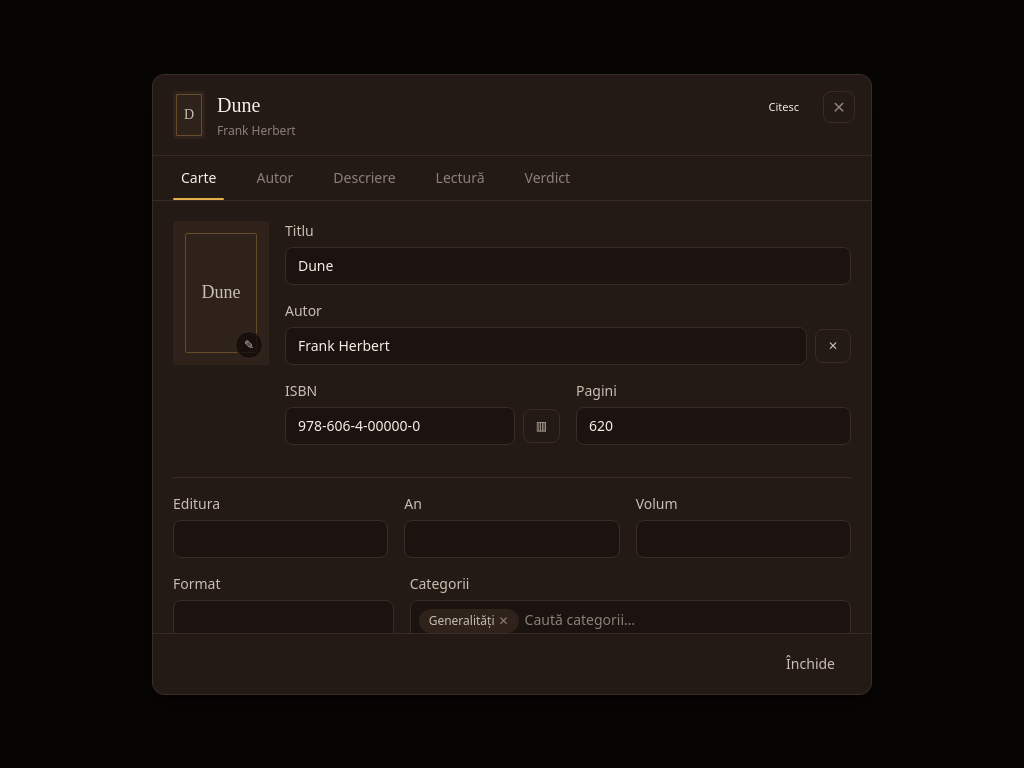
BookFormDialog — leaving with unsaved changes › editing › turns the footer into a decision as soon as a field changes
Type "!" into the field labelled "Titlu".
click(568, 266); type("!")  # box [285, 246, 851, 284]
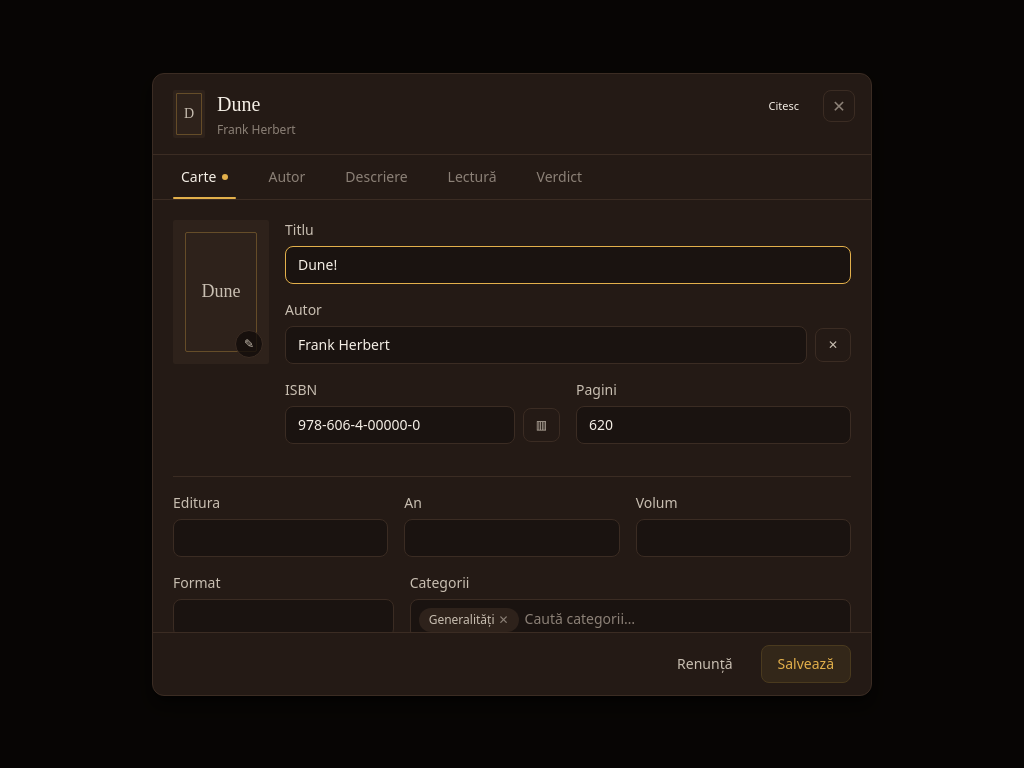
Expected: the number of buttons named "Închide" is 1, [823, 90, 855, 122]
Now the button "Renunță" is shown, box [661, 646, 749, 682]
Now the button "Salvează" is shown, box [760, 644, 851, 682]
